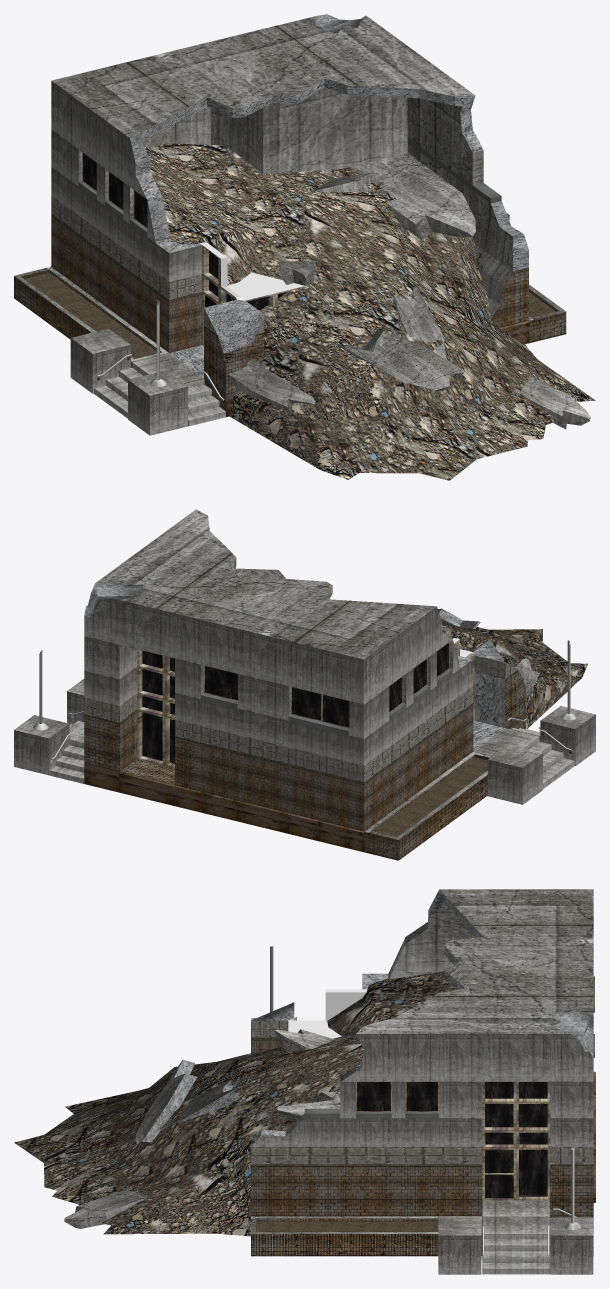
File: collapsed_police_station.dae
3 renders of one model, top to bottom at view 1: azimuth 30°, elevation 25°; view 2: azimuth 150°, elevation 25°; view 3: azimuth 270°, elevation 25°, orthographic. The views are drawn at different scales.
Parts seen in each view (by area): view 1: Destroyed_PoliceStation; view 2: Destroyed_PoliceStation; view 3: Destroyed_PoliceStation.
Boxes of the visible parts, x1,y1,x2,y2 form: Destroyed_PoliceStation: [14, 14, 595, 480]; Destroyed_PoliceStation: [14, 509, 595, 860]; Destroyed_PoliceStation: [14, 889, 595, 1274].
Size of the model in its own units: 771 by 872 by 350.
Materials: 3 (3 with a texture image).
